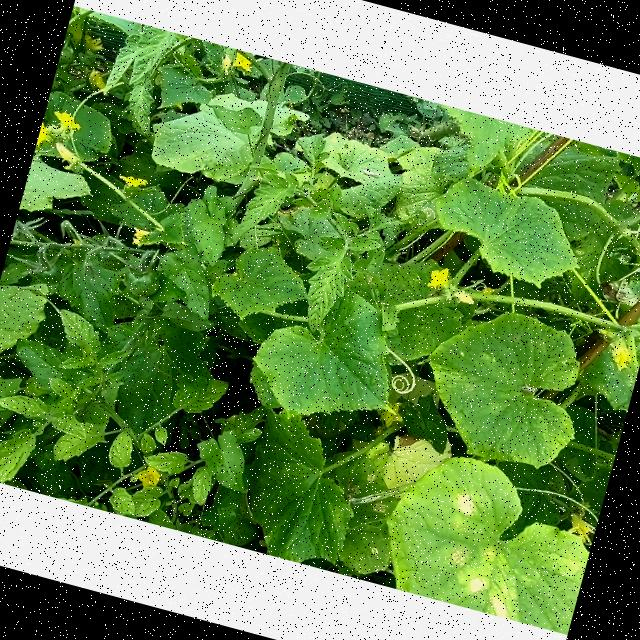Flowers: (561, 510, 598, 549), (48, 108, 84, 139), (49, 142, 82, 174), (377, 398, 407, 430), (606, 342, 634, 372), (135, 462, 162, 492), (117, 172, 149, 196), (230, 49, 256, 78), (425, 263, 451, 291), (84, 68, 110, 94), (78, 32, 105, 57), (128, 225, 152, 250), (36, 122, 52, 150), (218, 54, 232, 73)
